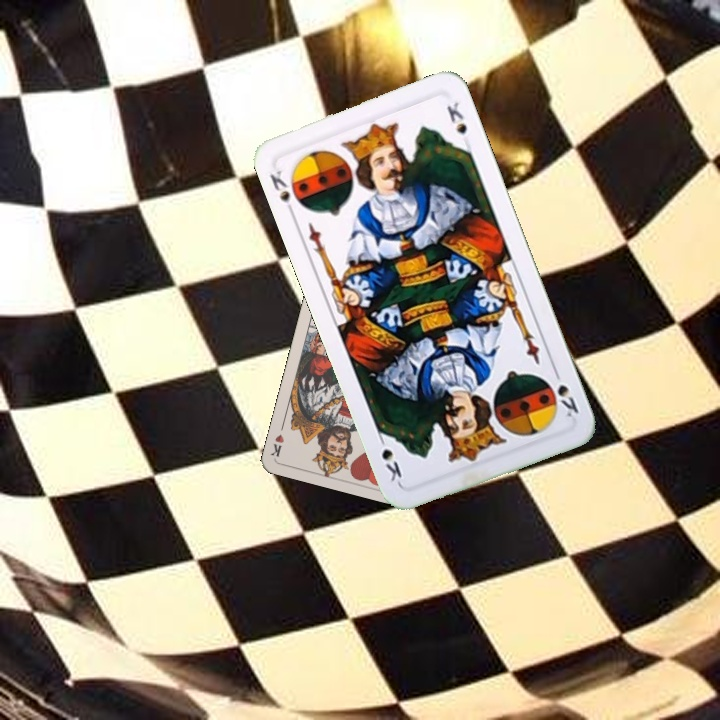SK: (549, 364, 582, 420), (265, 165, 298, 219)
